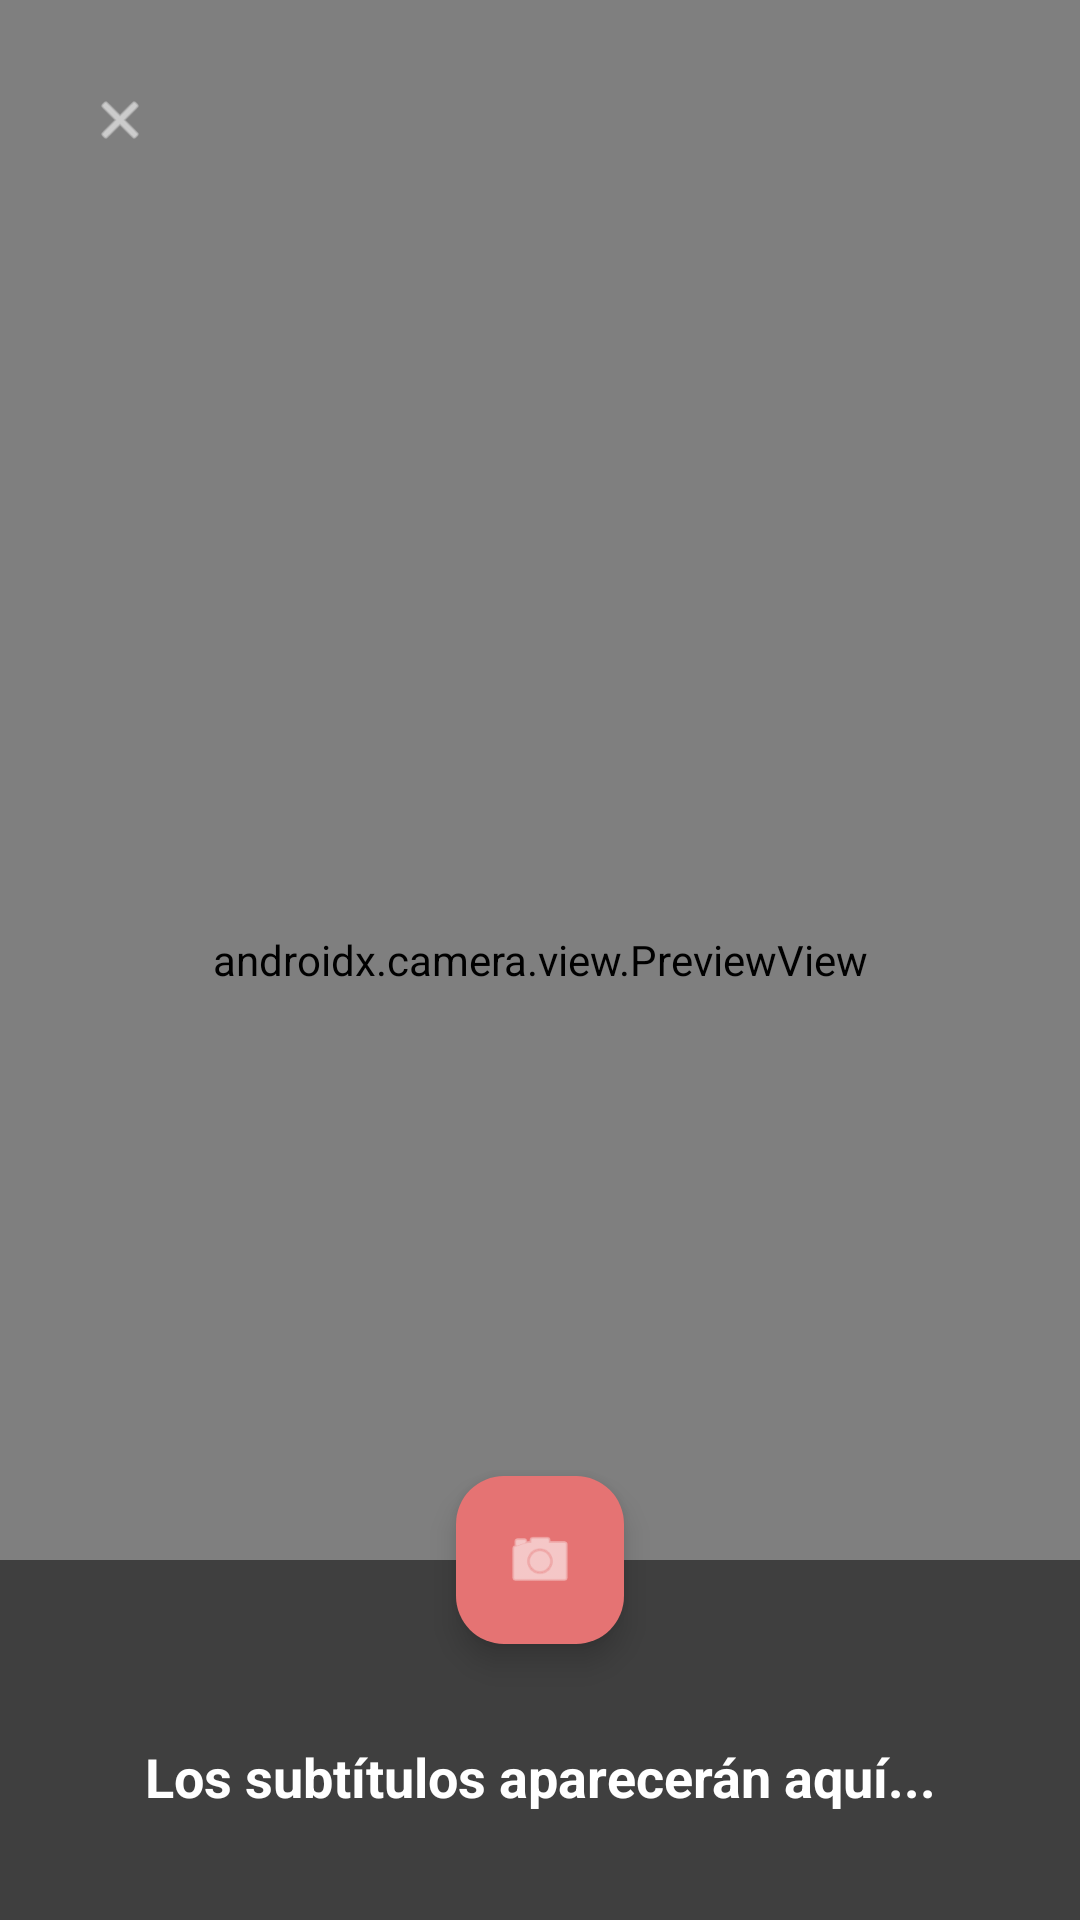

Point at icon controls on the screen. Image size 1080*1920, points as (x,y).
close clear cancel: (120,120)
